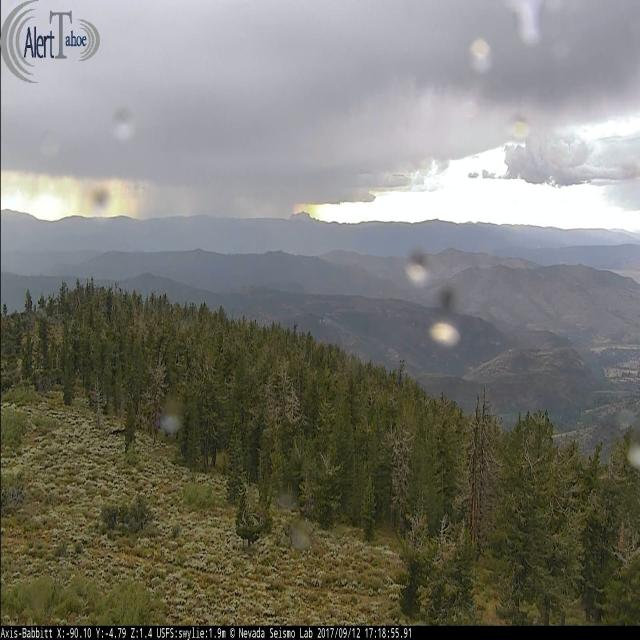smoke: (320, 314, 331, 324)
